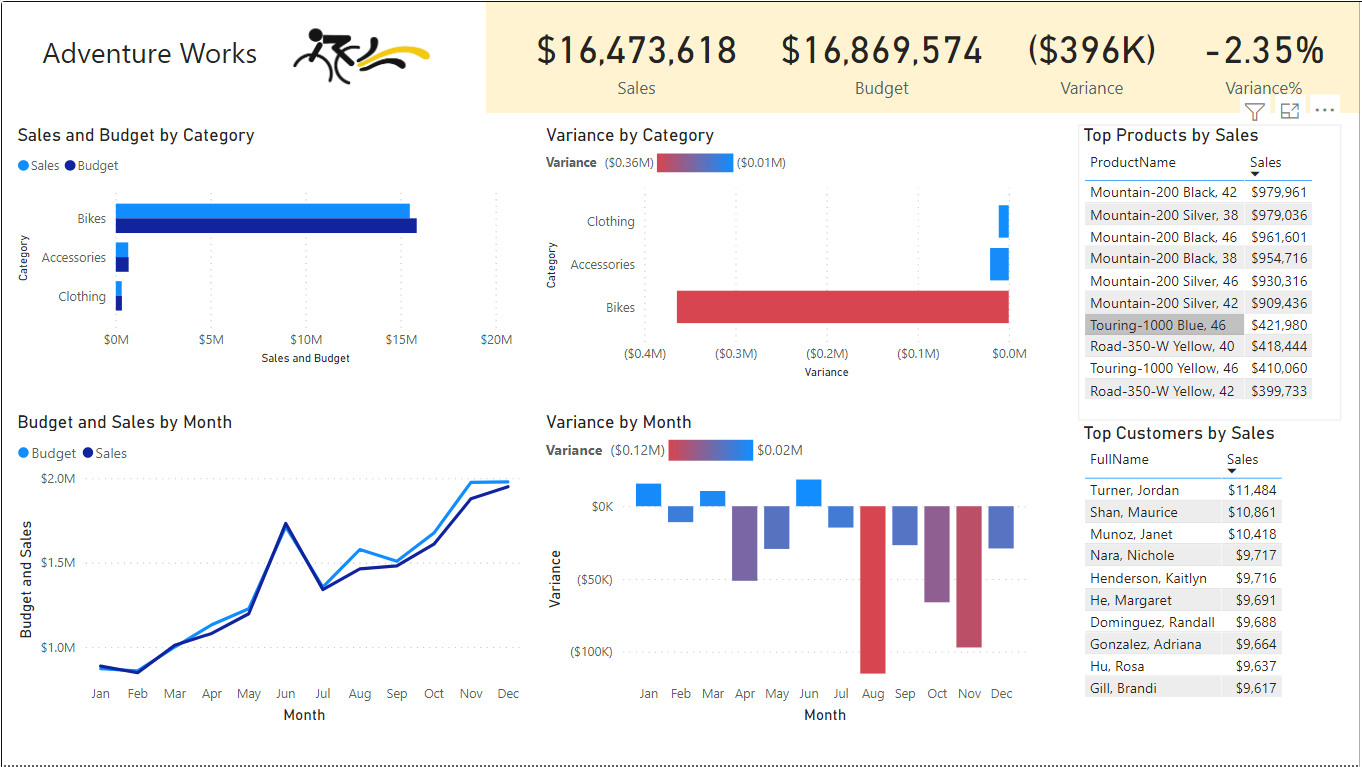

What the dashboard file says about the page in this screenshot:
{"tool":"powerbi","page":{"name":"Dashboard","canvas":[1280,720],"ordinal":1},"visuals":[{"type":"shape","box":[456.1,0,823.9,105.1],"z":0},{"type":"textbox","box":[33.4,23.6,229.1,57.9],"z":1000},{"type":"image","box":[262.6,13,147.6,77.5],"z":2000},{"type":"card","fields":{"Values":["Sales.Sales"]},"box":[476.2,0,243.8,104.4],"z":3000},{"type":"card","fields":{"Values":["Budget.Budget"]},"box":[712.7,0,233.2,104.4],"z":4000},{"type":"card","fields":{"Values":["Budget.Variance"]},"box":[945.9,0,162.3,104.4],"z":5000},{"type":"card","fields":{"Values":["Budget.Variance%"]},"box":[1100,0,180.2,104.4],"z":6000},{"type":"clusteredBarChart","fields":{"Y":["Sales.Sales","Budget.Budget"],"Category":["Product.Category","Product.SubCategory"]},"box":[9.8,115.8,477,231.6],"z":7000},{"type":"clusteredBarChart","fields":{"Y":["Budget.Variance"],"Category":["Product.Category","Product.SubCategory"]},"box":[508,115.8,463.1,244.6],"z":8000},{"type":"lineChart","fields":{"Y":["Budget.Budget","Sales.Sales"],"Category":["Calendar.Month"]},"box":[9.8,384.9,486.8,299.3],"z":9000},{"type":"clusteredColumnChart","fields":{"Category":["Calendar.Month"],"Y":["Budget.Variance"]},"box":[508,384.9,463.1,299.3],"z":10000},{"type":"tableEx","title":"Top Products by Sales","fields":{"Values":["Product.ProductName","Sales.Sales"]},"box":[1014.4,115.8,247.9,278.9],"z":11000},{"type":"tableEx","title":"Top Customers by Sales","fields":{"Values":["Customer.FullName","Sales.Sales"]},"box":[1014.4,395.5,255.2,278.9],"z":12000}]}

Visuals, with their boxes in screenshot pixels (x1, y1, x2, y2), scaled from the page's 1280x720 canvas onto the 1362x767 screenshot:
shape: bbox=[485, 0, 1361, 112]
textbox: bbox=[36, 25, 279, 87]
image: bbox=[279, 14, 436, 96]
card - Sales.Sales: bbox=[507, 0, 766, 111]
card - Budget.Budget: bbox=[758, 0, 1006, 111]
card - Budget.Variance: bbox=[1006, 0, 1179, 111]
card - Budget.Variance%: bbox=[1170, 0, 1361, 111]
clusteredBarChart - Sales.Sales x Budget.Budget: bbox=[10, 123, 518, 370]
clusteredBarChart - Budget.Variance x Product.Category: bbox=[541, 123, 1033, 384]
lineChart - Budget.Budget x Sales.Sales: bbox=[10, 410, 528, 729]
clusteredColumnChart - Calendar.Month x Budget.Variance: bbox=[541, 410, 1033, 729]
"Top Products by Sales" tableEx: bbox=[1079, 123, 1343, 420]
"Top Customers by Sales" tableEx: bbox=[1079, 421, 1351, 718]
